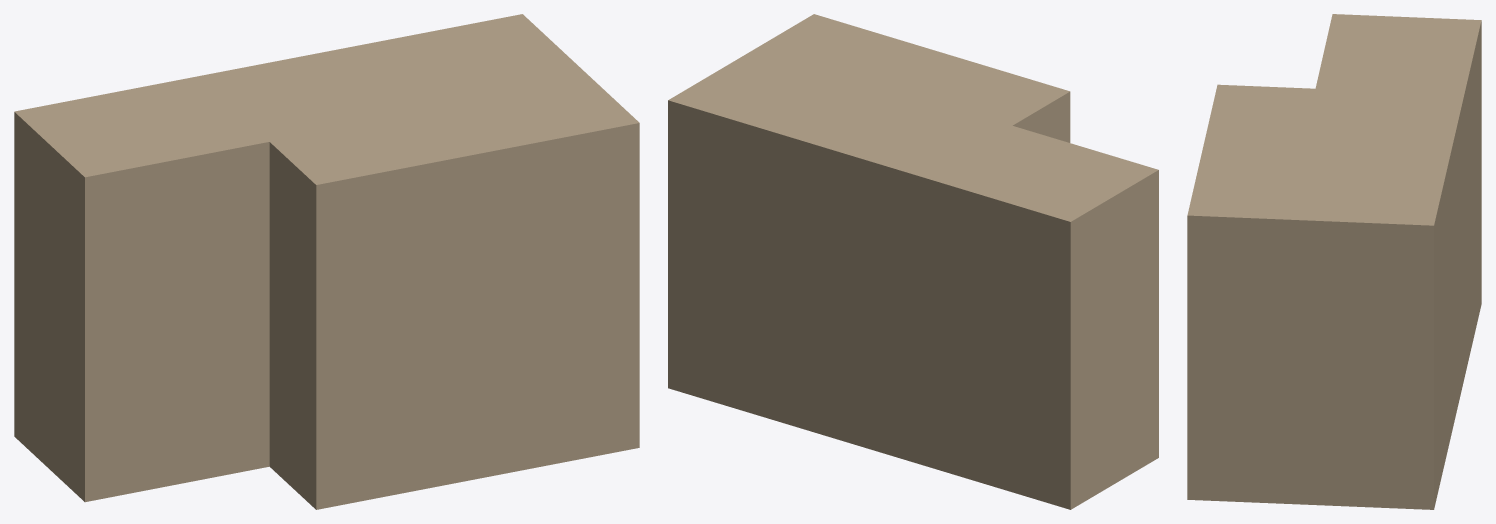
Rendered from bld_55879893.dae.
The picture shows the model from 3 angles, left to right: view 1: azimuth 30°, elevation 25°; view 2: azimuth 150°, elevation 25°; view 3: azimuth 270°, elevation 25°; orthographic projection. The views are drawn at different scales.
Parts seen in each view (by area): view 1: bld_55879893; view 2: bld_55879893; view 3: bld_55879893.
Boxes of the visible parts, box(x1,y1,x2,y2) form: bld_55879893: box(14, 14, 639, 509); bld_55879893: box(668, 14, 1158, 509); bld_55879893: box(1187, 14, 1481, 509).
Size of the model in its own units: 12.78 by 7.5 by 8.
